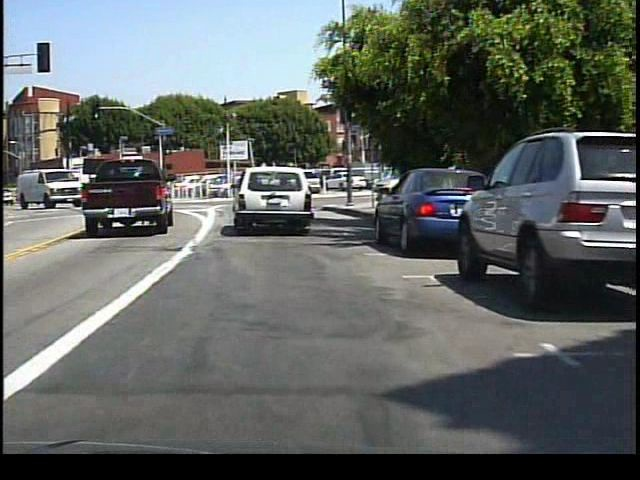person: (342, 168, 357, 199)
